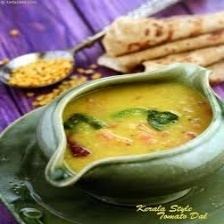roti: (103, 12, 224, 72)
